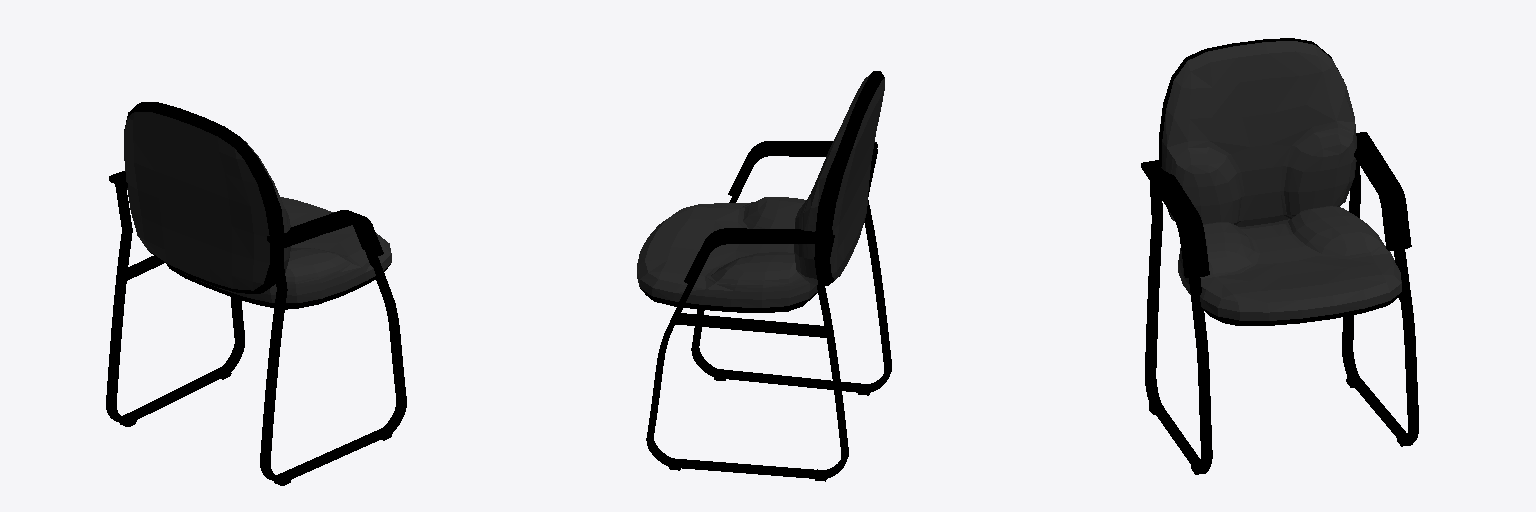
Rendered from office_chair2.obj.
3 views of the same model, side by side, from view 1: azimuth 30°, elevation 25°; view 2: azimuth 150°, elevation 25°; view 3: azimuth 270°, elevation 25° (orthographic).
Parts seen in each view (by area): view 1: Box02, Box01, Loft04, Loft01, Object04, Loft03, Object02; view 2: Box01, Box02, Loft01, Loft04, Object04, Loft02, Rectangle03, Loft03, Object02; view 3: Box02, Box01, Loft04, Loft01, Loft03, Loft02, Object02, Object04.
Part boxes in pixels (left/top/right/bottom): Box02: left=124, top=112, right=290, bottom=290; Box01: left=185, top=197, right=391, bottom=302; Loft04: left=260, top=222, right=406, bottom=482; Loft01: left=106, top=183, right=244, bottom=423; Object04: left=124, top=102, right=284, bottom=293; Loft03: left=267, top=210, right=383, bottom=255; Object02: left=167, top=264, right=390, bottom=309; Box01: left=637, top=197, right=817, bottom=307; Box02: left=794, top=74, right=884, bottom=284; Loft01: left=646, top=235, right=848, bottom=478; Loft04: left=691, top=149, right=891, bottom=392; Object04: left=814, top=71, right=884, bottom=285; Loft02: left=684, top=228, right=832, bottom=283; Rectangle03: left=675, top=313, right=826, bottom=337; Loft03: left=728, top=141, right=877, bottom=195; Object02: left=640, top=288, right=817, bottom=312; Box02: left=1161, top=41, right=1356, bottom=226; Box01: left=1178, top=206, right=1401, bottom=320; Loft04: left=1145, top=182, right=1212, bottom=472; Loft01: left=1342, top=162, right=1418, bottom=444; Loft03: left=1141, top=160, right=1209, bottom=278; Loft02: left=1354, top=132, right=1411, bottom=250; Object02: left=1204, top=292, right=1401, bottom=325; Object04: left=1159, top=38, right=1343, bottom=218.
Size of the model in its own units: 279 by 404 by 294.